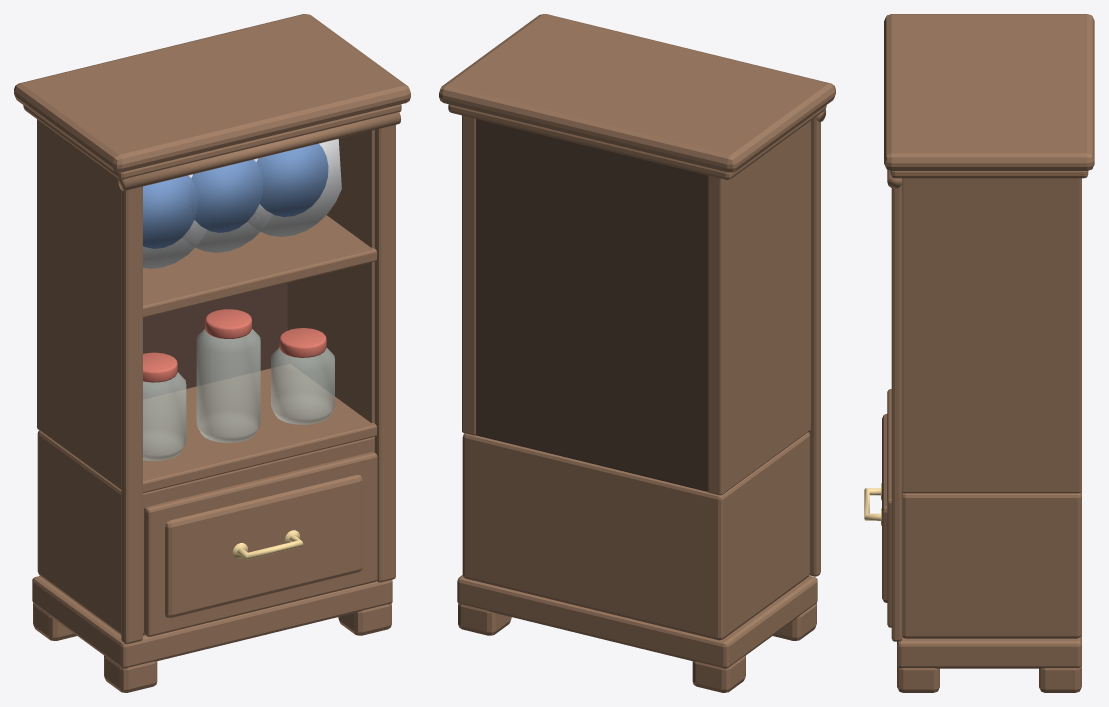
File: shelf.glb
The picture shows the model from 3 angles, left to right: view 1: azimuth 30°, elevation 25°; view 2: azimuth 150°, elevation 25°; view 3: azimuth 270°, elevation 25°; orthographic projection.
Visible parts, largest first — view 1: shelf; view 2: shelf; view 3: shelf.
Boxes of the visible parts, x1=… form: shelf: x1=14, y1=14, x2=410, y2=692; shelf: x1=439, y1=14, x2=835, y2=692; shelf: x1=864, y1=14, x2=1094, y2=692.
Bounding box in the file's own units: 1.6 × 2.8 × 1.07.
